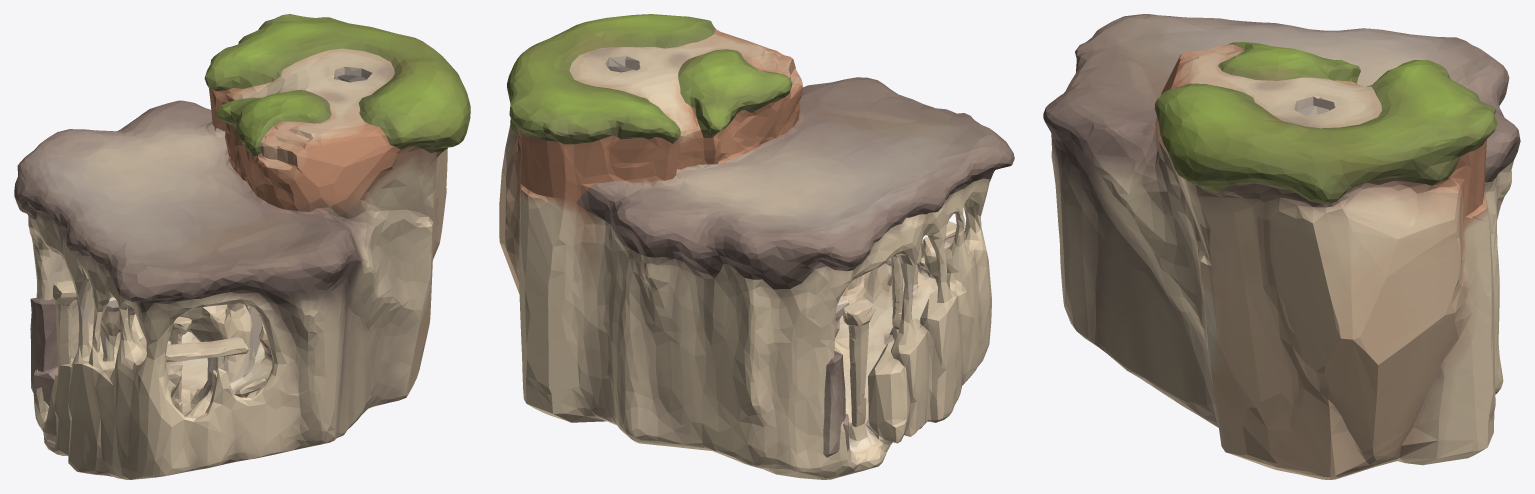
Rendered from Well-Cave-Lightmapped.fbx.
3 renders of one model, left to right at view 1: azimuth 30°, elevation 25°; view 2: azimuth 150°, elevation 25°; view 3: azimuth 270°, elevation 25°, orthographic. The views are drawn at different scales.
Parts seen in each view (by area): view 1: Well-CaveLowPoly, Well-CaveLowPoly-Gravel, Well-CaveLowPoly-Grass, Cube.008, Target.015, Cave-Column.003, Cave-Column; view 2: Well-CaveLowPoly, Well-CaveLowPoly-Gravel, Well-CaveLowPoly-Grass, Cube.008, Cave-Column.001, Cave-Column.003, Cave-Column, Cave-Column.015; view 3: Well-CaveLowPoly, Well-CaveLowPoly-Grass, Well-CaveLowPoly-Gravel.
Part boxes in pixels (bbox=[...]): Well-CaveLowPoly: bbox=[28, 66, 447, 479]; Well-CaveLowPoly-Gravel: bbox=[14, 48, 394, 312]; Well-CaveLowPoly-Grass: bbox=[204, 14, 470, 157]; Cube.008: bbox=[30, 297, 57, 405]; Target.015: bbox=[165, 337, 248, 361]; Cave-Column.003: bbox=[55, 300, 72, 348]; Cave-Column: bbox=[53, 280, 76, 305]; Well-CaveLowPoly: bbox=[499, 56, 991, 479]; Well-CaveLowPoly-Gravel: bbox=[569, 29, 1014, 289]; Well-CaveLowPoly-Grass: bbox=[507, 14, 792, 144]; Cube.008: bbox=[823, 351, 848, 457]; Cave-Column.001: bbox=[850, 362, 866, 426]; Cave-Column.003: bbox=[848, 322, 869, 365]; Cave-Column: bbox=[843, 299, 875, 326]; Cave-Column.015: bbox=[891, 254, 903, 316]; Well-CaveLowPoly: bbox=[1051, 54, 1513, 479]; Well-CaveLowPoly-Grass: bbox=[1154, 42, 1497, 203]; Well-CaveLowPoly-Gravel: bbox=[1043, 14, 1520, 182].
Size of the model in its own units: 57.29 by 43.78 by 49.88.
1 material, 1 textured.
